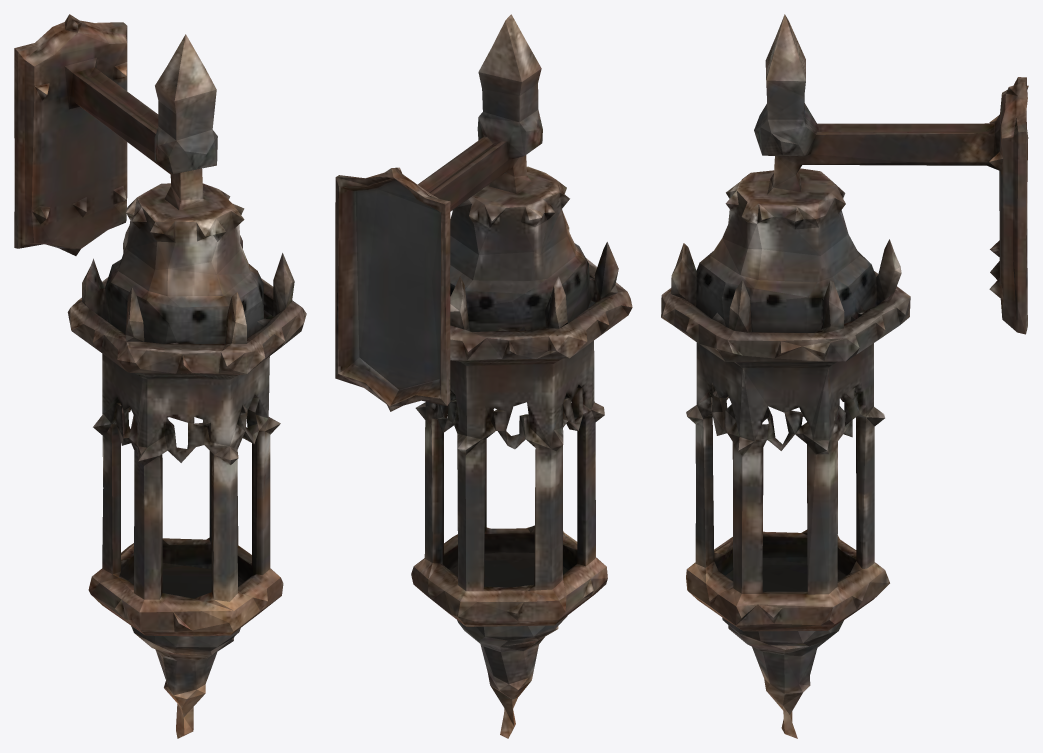
Rendered from meshy_lantern_wall_iron_lod0.glb.
3 views of the same model, side by side, from view 1: azimuth 30°, elevation 25°; view 2: azimuth 150°, elevation 25°; view 3: azimuth 270°, elevation 25° (orthographic). The views are drawn at different scales.
Parts seen in each view (by area): view 1: meshy_lantern_wall_iron; view 2: meshy_lantern_wall_iron; view 3: meshy_lantern_wall_iron.
Boxes of the visible parts, left/top/right/bottom form: meshy_lantern_wall_iron: left=14, top=14, right=306, bottom=738; meshy_lantern_wall_iron: left=335, top=14, right=632, bottom=738; meshy_lantern_wall_iron: left=661, top=14, right=1028, bottom=738.
Bounding box in the file's own units: 0.2256 × 0.8 × 0.3675.
Materials: 1 (1 with a texture image).
